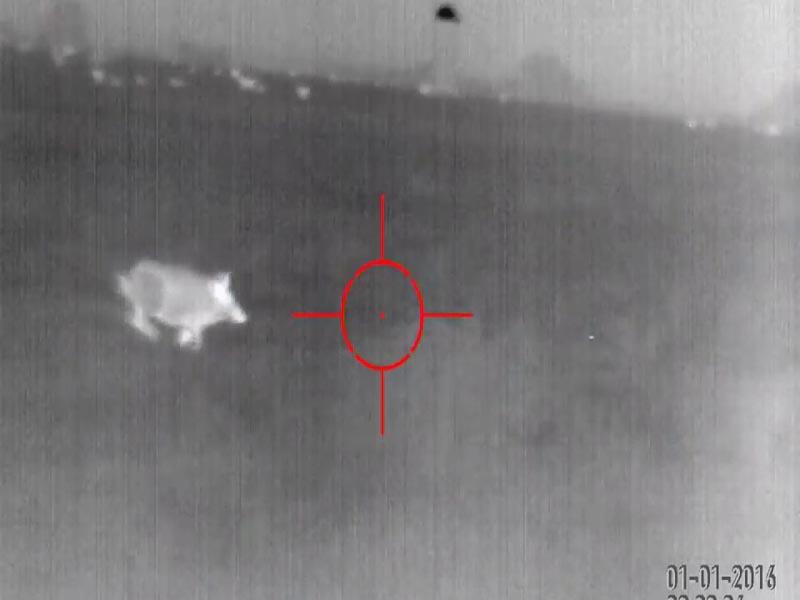cinghiale: (109, 252, 260, 353)
